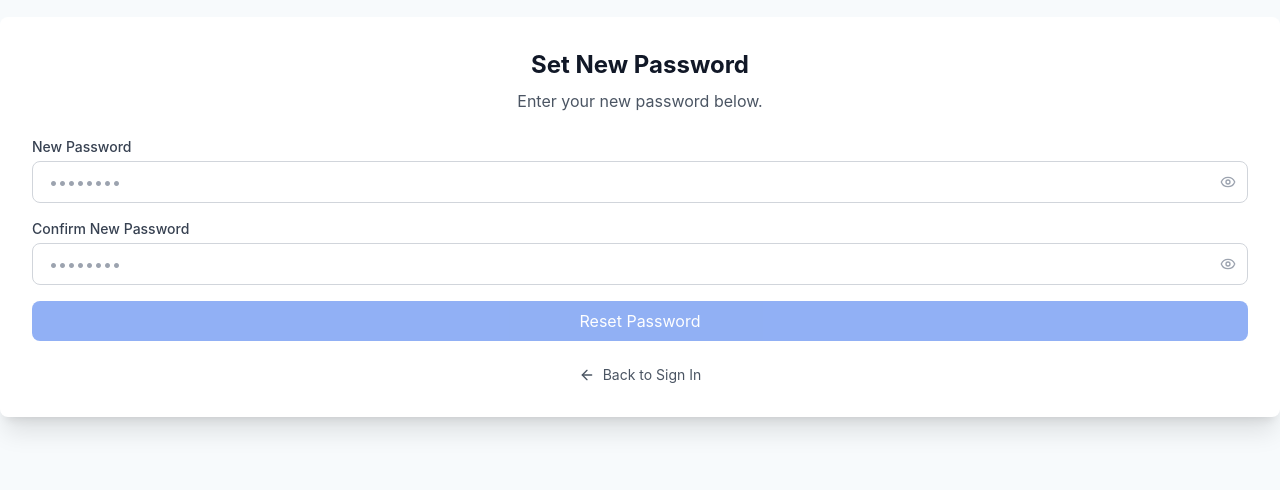
ResetPasswordPage › shows loading state during submission
Type "NewPassword123" into the password field labelled "New Password".
click(640, 182); type("NewPassword123")  # box [32, 161, 1248, 203]
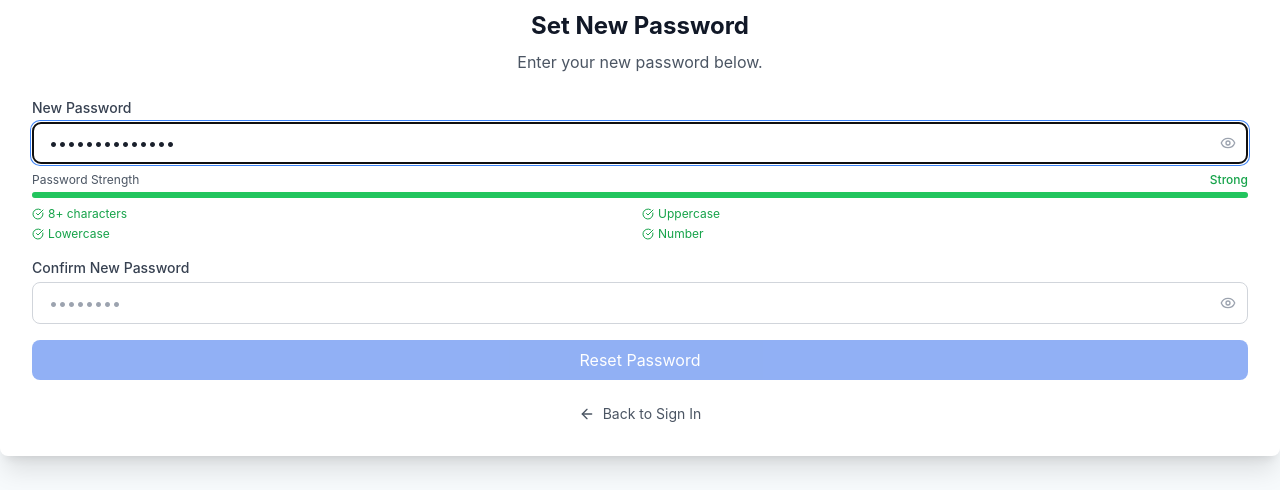
Type "NewPassword123" into the password field labelled "Confirm New Password".
click(640, 303); type("NewPassword123")  # box [32, 282, 1248, 324]
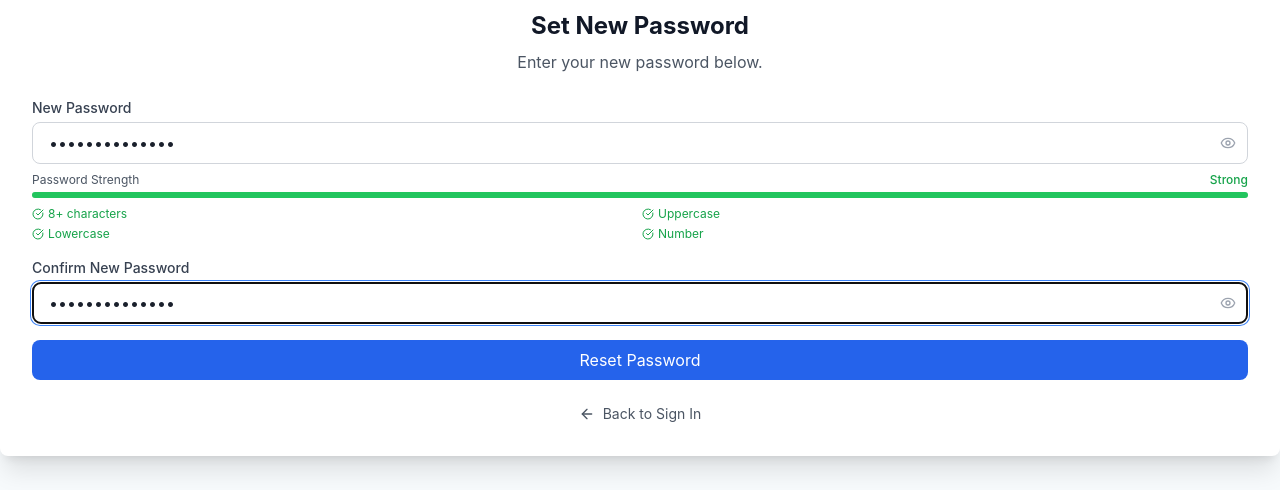
Click the button "Reset Password".
click(640, 360)  # box [32, 340, 1248, 380]
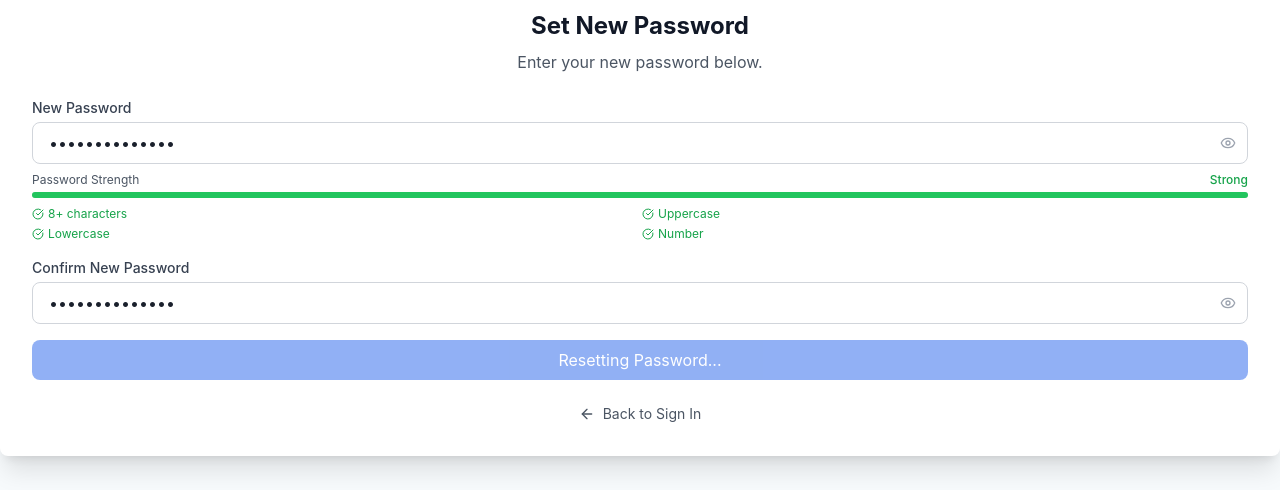
expect the button "Resetting Password..." is disabled: met, box [32, 340, 1248, 380]
